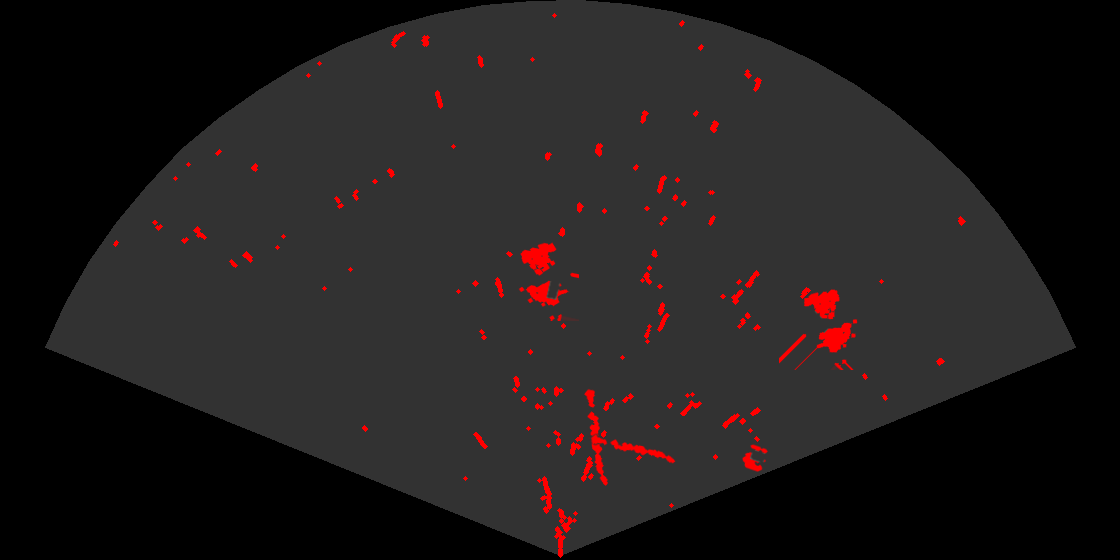ball: (741, 443, 770, 473)
cage: (779, 288, 859, 370), (517, 241, 579, 321)
chain: (588, 433, 677, 465), (583, 387, 609, 487)
